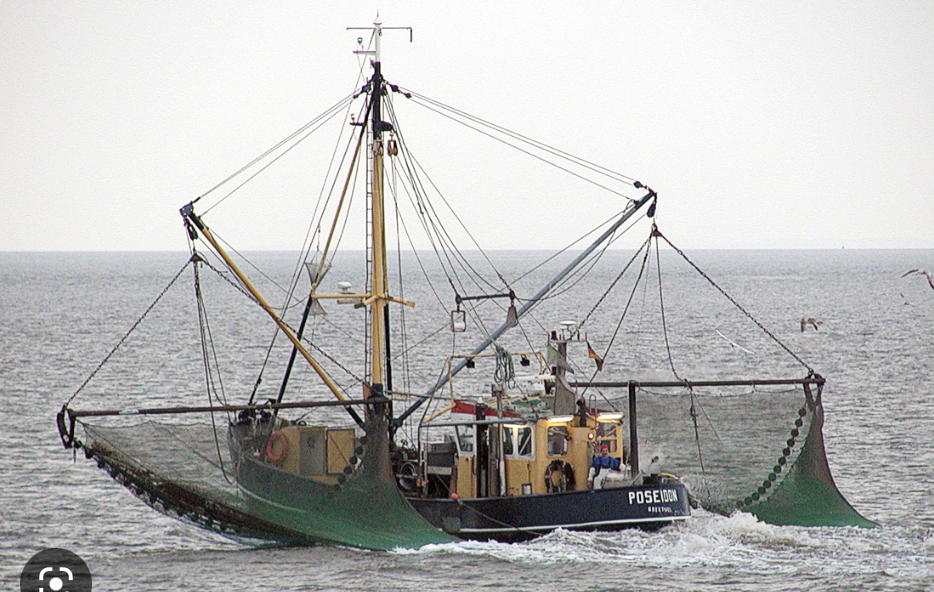ship: (44, 22, 875, 566)
